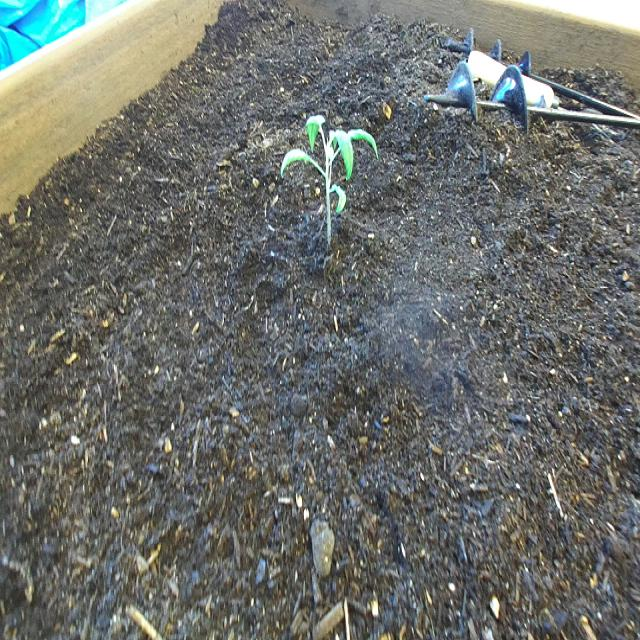Healthy: (277, 104, 385, 260)
